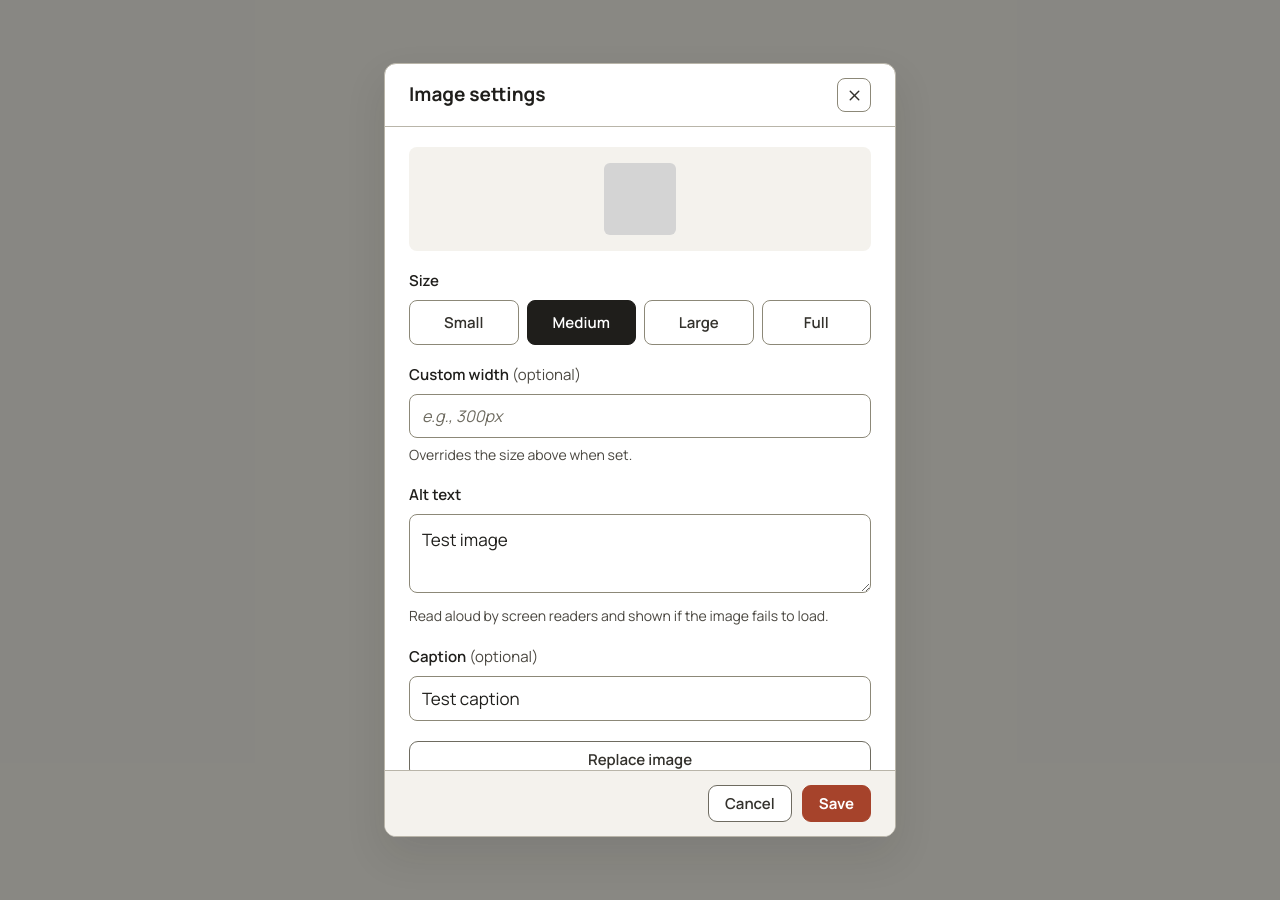
Test: ImageSettingsModal › custom width input › adds px suffix on blur when only numbers entered
Type "400" into the field with placeholder "e.g., 300px".
click(640, 416); type("400")  # box [409, 394, 871, 438]
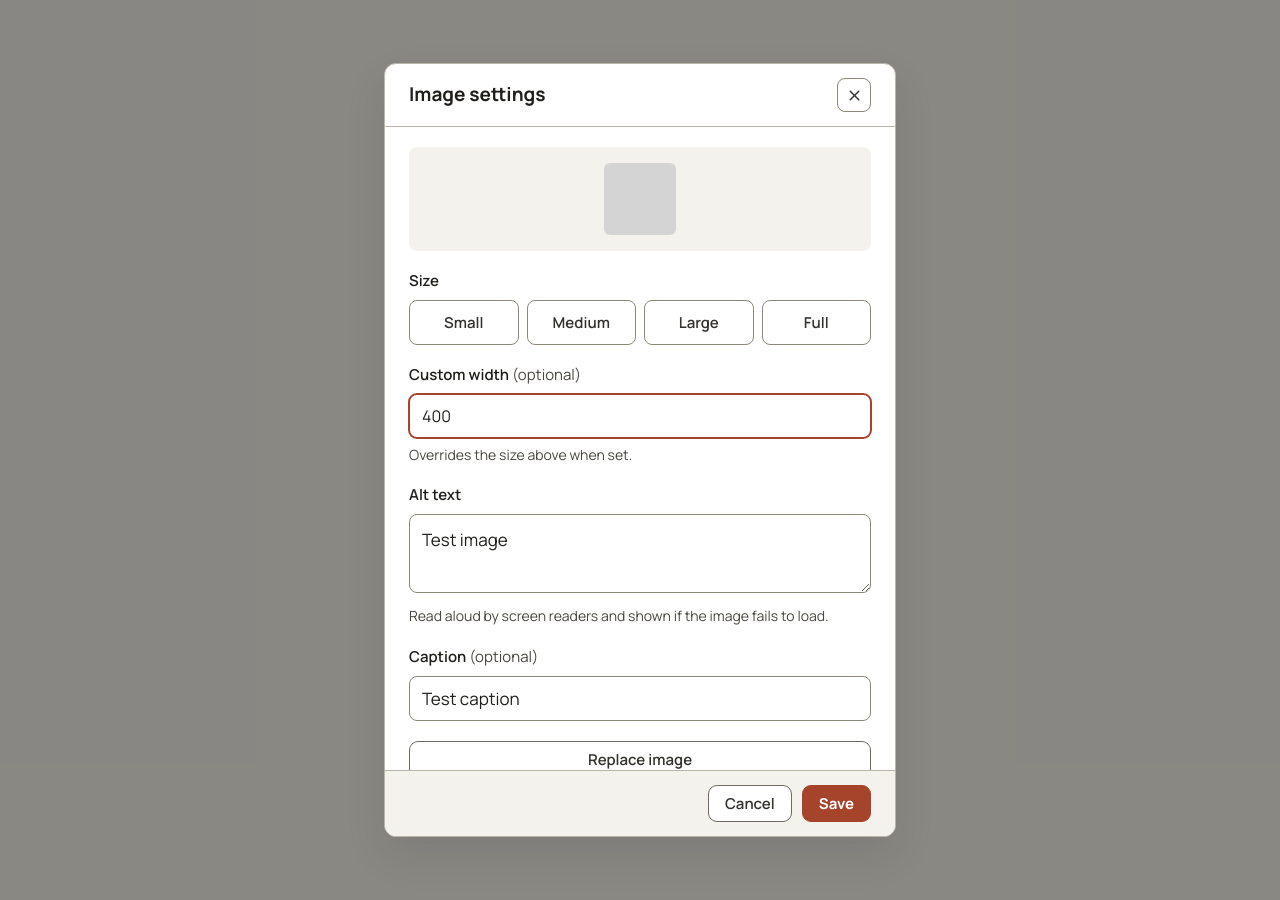
Press Tab
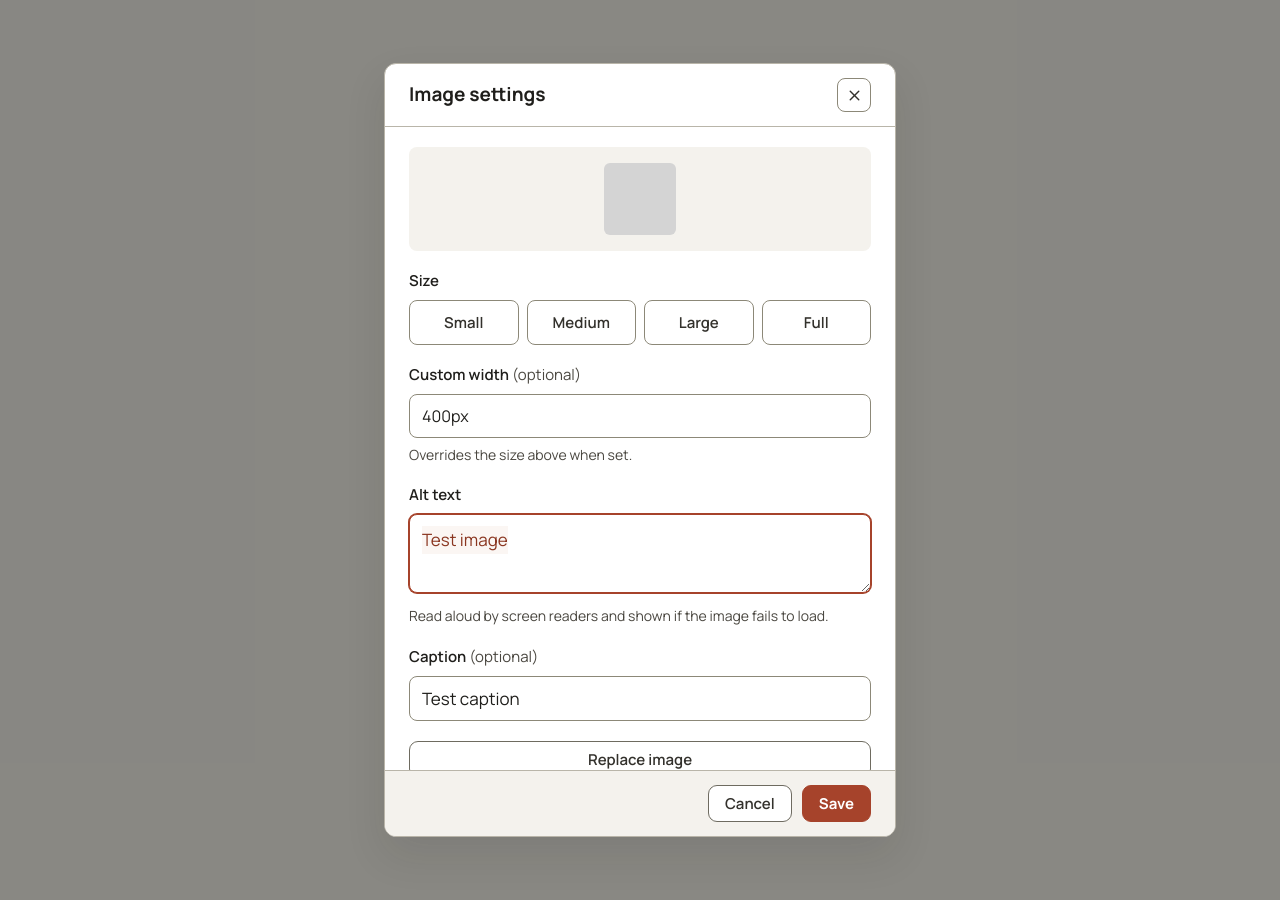
expect the field with placeholder "e.g., 300px" holds "400px": met, box [409, 394, 871, 438]
